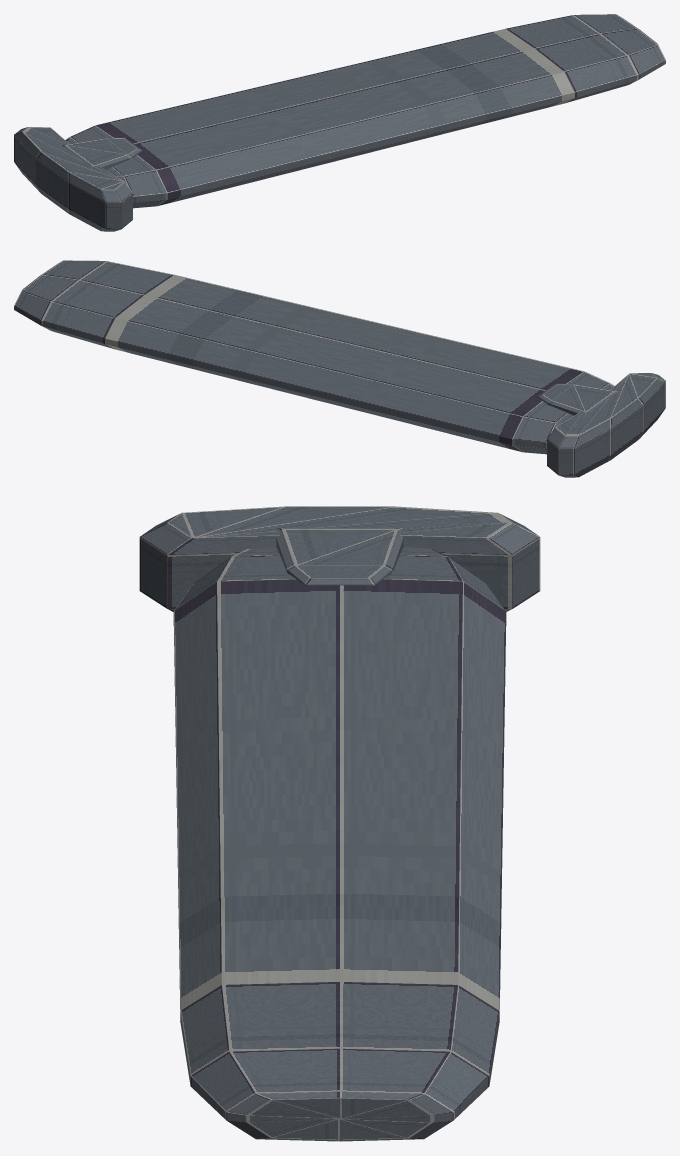
File: bench_xuanyue_zhenshan_sword_3.obj
The picture shows the model from 3 angles, top to bottom: view 1: azimuth 30°, elevation 25°; view 2: azimuth 150°, elevation 25°; view 3: azimuth 270°, elevation 25°; orthographic projection. The views are drawn at different scales.
Visible parts, largest first — view 1: geometry; view 2: geometry; view 3: geometry.
Boxes of the visible parts, x1=… form: geometry: x1=14, y1=14, x2=665, y2=231; geometry: x1=14, y1=260, x2=665, y2=477; geometry: x1=139, y1=506, x2=540, y2=1141.
Size of the model in its own units: 0.75 by 0.0524 by 0.2214.
